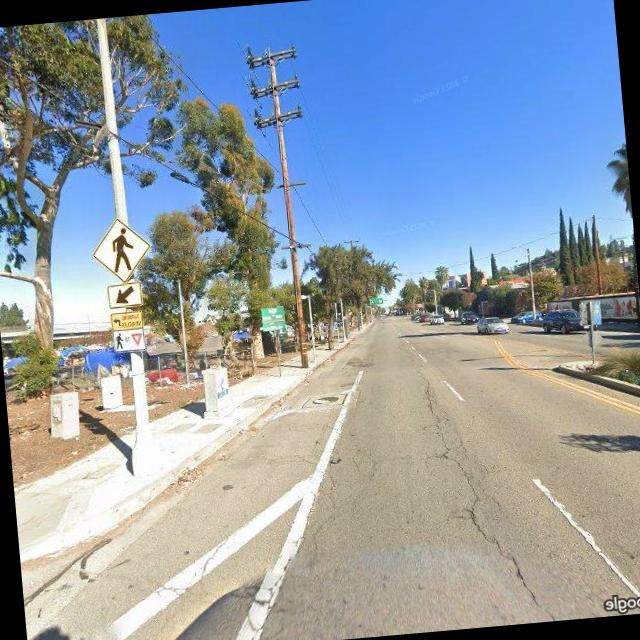pothole: (421, 352, 569, 628)
